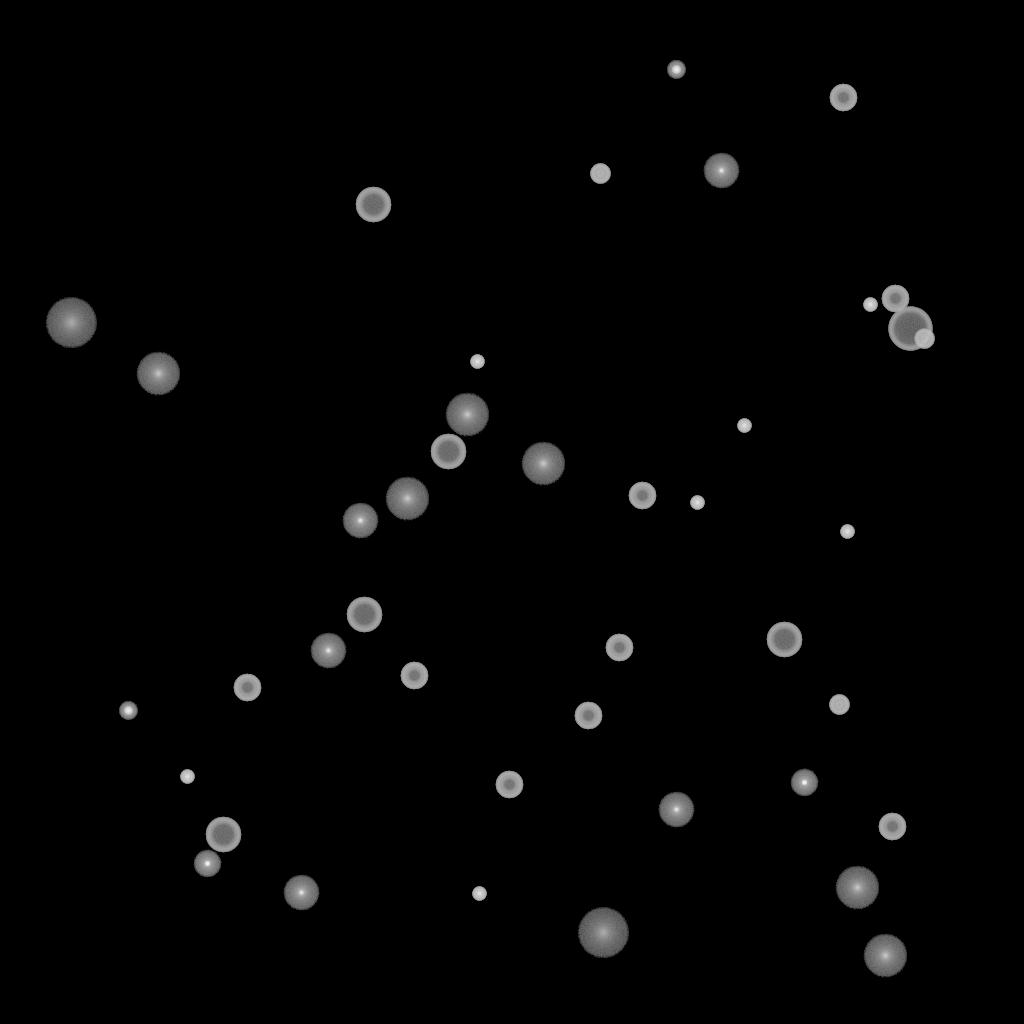depth:-10: (193, 850, 221, 878), (790, 769, 818, 797)
depth:-20: (119, 702, 137, 720), (667, 61, 685, 79)
depth:-30: (472, 887, 486, 901), (180, 770, 194, 784), (863, 298, 877, 312), (737, 419, 751, 433), (470, 355, 484, 369), (840, 525, 854, 539), (690, 496, 704, 510)
depth:-40: (590, 164, 610, 184), (829, 695, 849, 715), (914, 329, 934, 349)
depth:-50: (574, 702, 602, 730), (233, 674, 261, 702), (878, 813, 906, 841), (495, 771, 523, 799), (605, 634, 633, 662), (881, 285, 909, 313), (829, 84, 857, 112), (400, 662, 428, 690), (628, 482, 656, 510)
depth:-60: (766, 622, 802, 658), (205, 817, 241, 853), (346, 597, 382, 633), (430, 434, 466, 470), (355, 187, 391, 223)
depth:-70: (888, 307, 932, 351)
depth:0: (703, 153, 739, 189), (342, 503, 378, 539), (658, 792, 694, 828), (283, 875, 319, 911), (310, 633, 346, 669)
depth:10: (835, 866, 879, 910), (521, 442, 565, 486), (136, 352, 180, 396), (863, 934, 907, 978), (445, 393, 489, 437), (385, 477, 429, 521)
depth:20: (577, 908, 629, 958), (45, 298, 97, 348)
